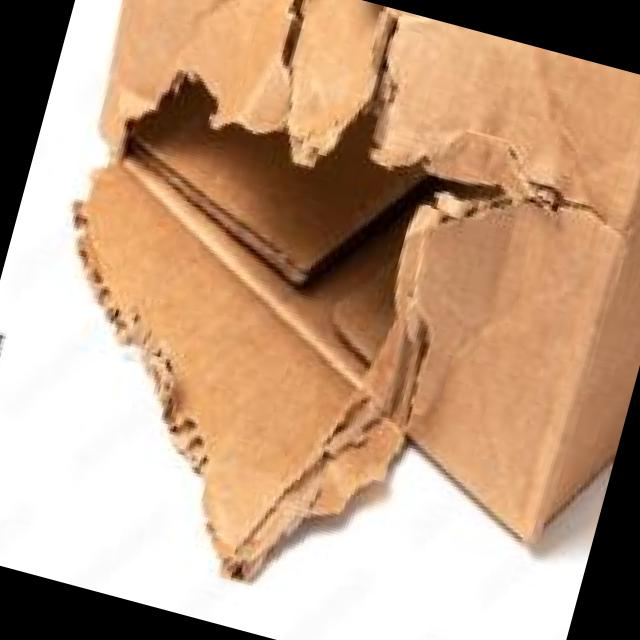box: (78, 1, 640, 583)
crushed: (273, 0, 415, 93)
opened: (82, 56, 567, 587)
